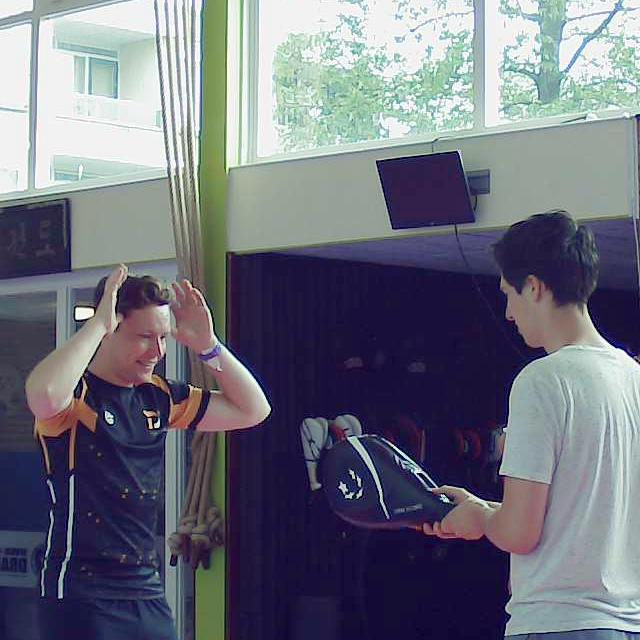paddle: (318, 430, 451, 532)
